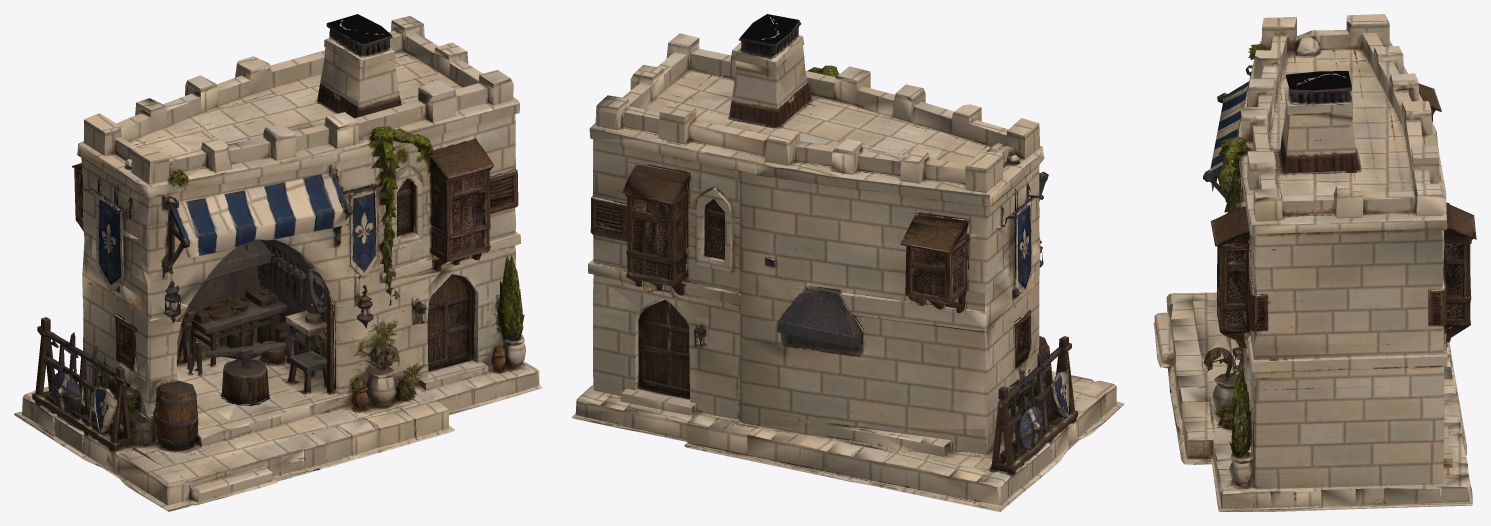
Rendered from blacksmith-lod.glb.
3 renders of one model, left to right at view 1: azimuth 30°, elevation 25°; view 2: azimuth 150°, elevation 25°; view 3: azimuth 270°, elevation 25°, orthographic. The views are drawn at different scales.
Size of the model in its own units: 8.51 by 7.01 by 5.53.
1 material, 1 textured.
